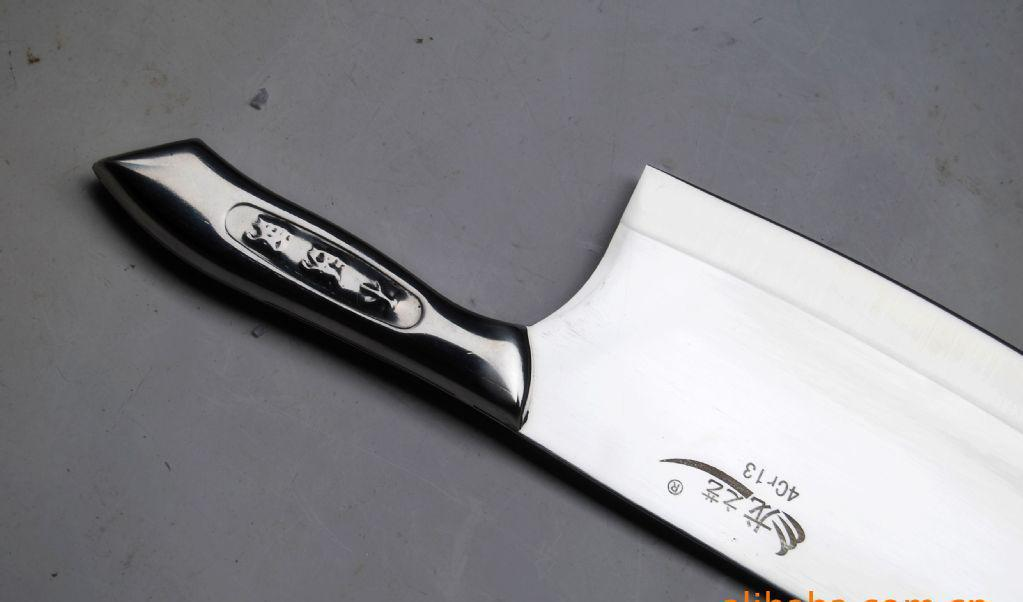knief: (85, 114, 976, 567)
